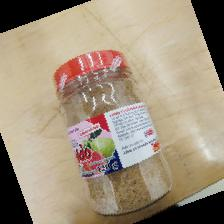Hao_hao: (53, 49, 173, 217)
